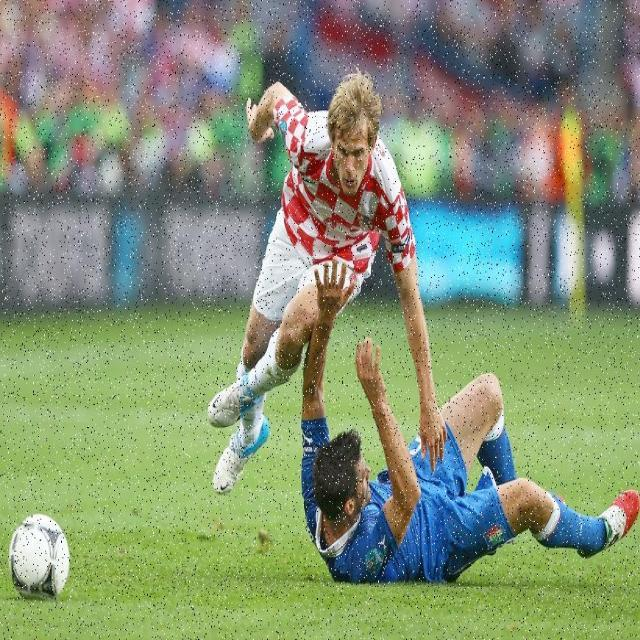fall: (306, 358, 628, 584)
